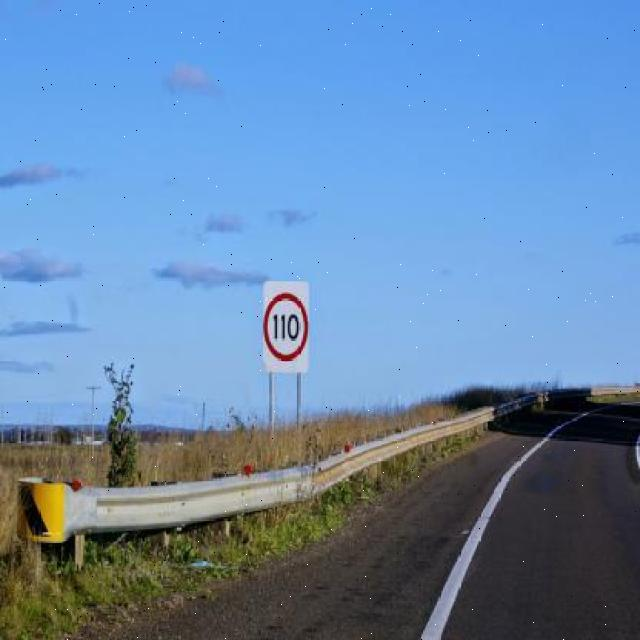speed limit 110: (263, 292, 307, 361)
